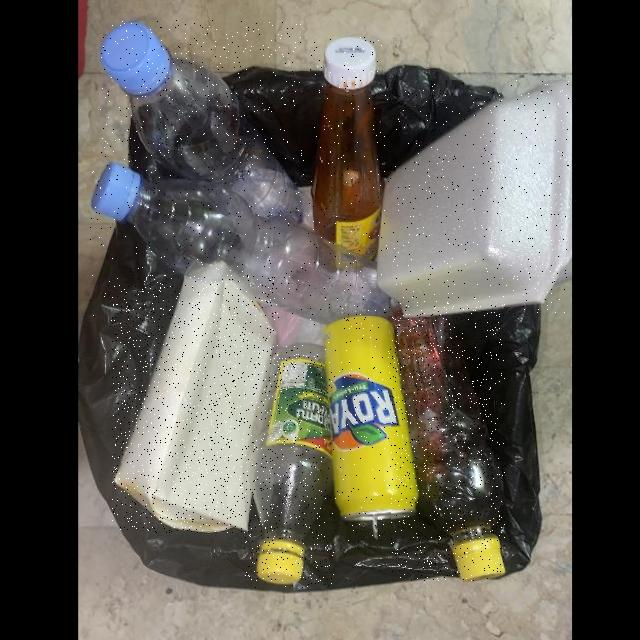glass: (311, 37, 383, 259)
metal: (323, 317, 418, 542)
paper: (113, 275, 275, 533)
plastic: (91, 160, 396, 327), (101, 21, 302, 221), (391, 302, 505, 581), (244, 345, 335, 588)
styrofoam: (377, 81, 571, 315)
